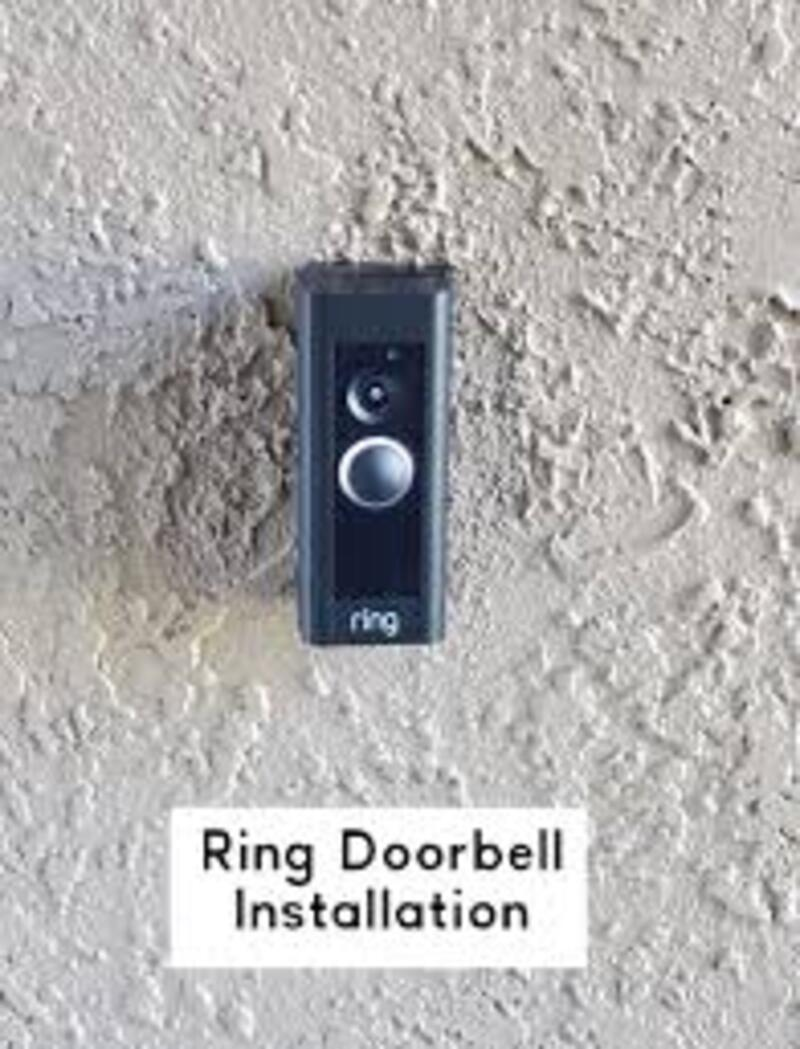doorbell: (274, 250, 470, 682)
